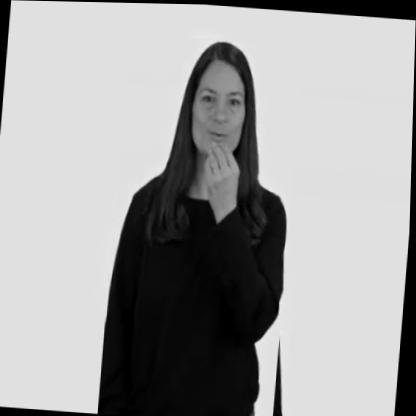Food: (99, 32, 303, 416)
